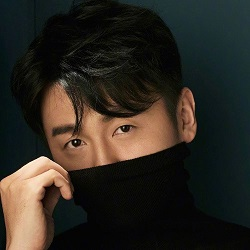mask: (46, 138, 183, 222)
